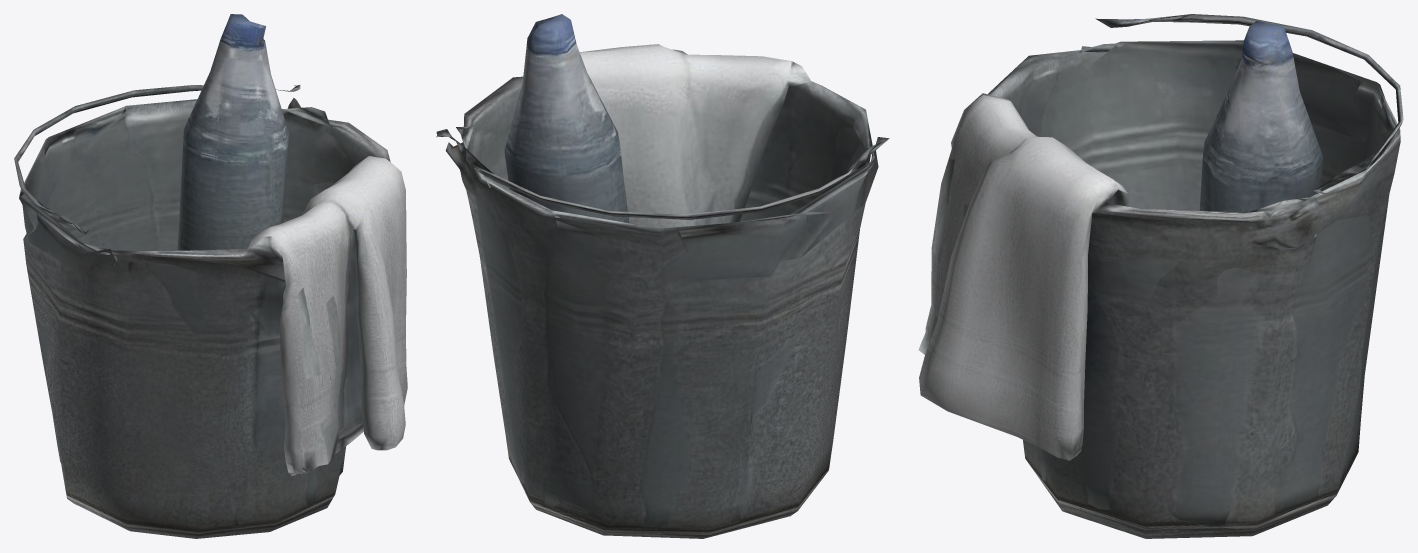
File: bucket.glb
3 renders of one model, left to right at view 1: azimuth 30°, elevation 25°; view 2: azimuth 150°, elevation 25°; view 3: azimuth 270°, elevation 25°, orthographic. The views are drawn at different scales.
Parts seen in each view (by area): view 1: tripo_node_f6327ee4; view 2: tripo_node_f6327ee4; view 3: tripo_node_f6327ee4.
Boxes of the visible parts, x1=… form: tripo_node_f6327ee4: x1=14, y1=14, x2=407, y2=538; tripo_node_f6327ee4: x1=436, y1=14, x2=889, y2=538; tripo_node_f6327ee4: x1=918, y1=14, x2=1403, y2=538.
Size of the model in its own units: 0.3427 by 0.42 by 0.3785.
Materials: 1 (1 with a texture image).
